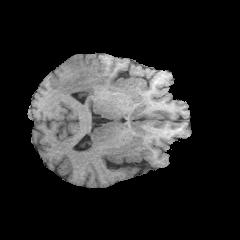glioma: (63, 61, 123, 94)
